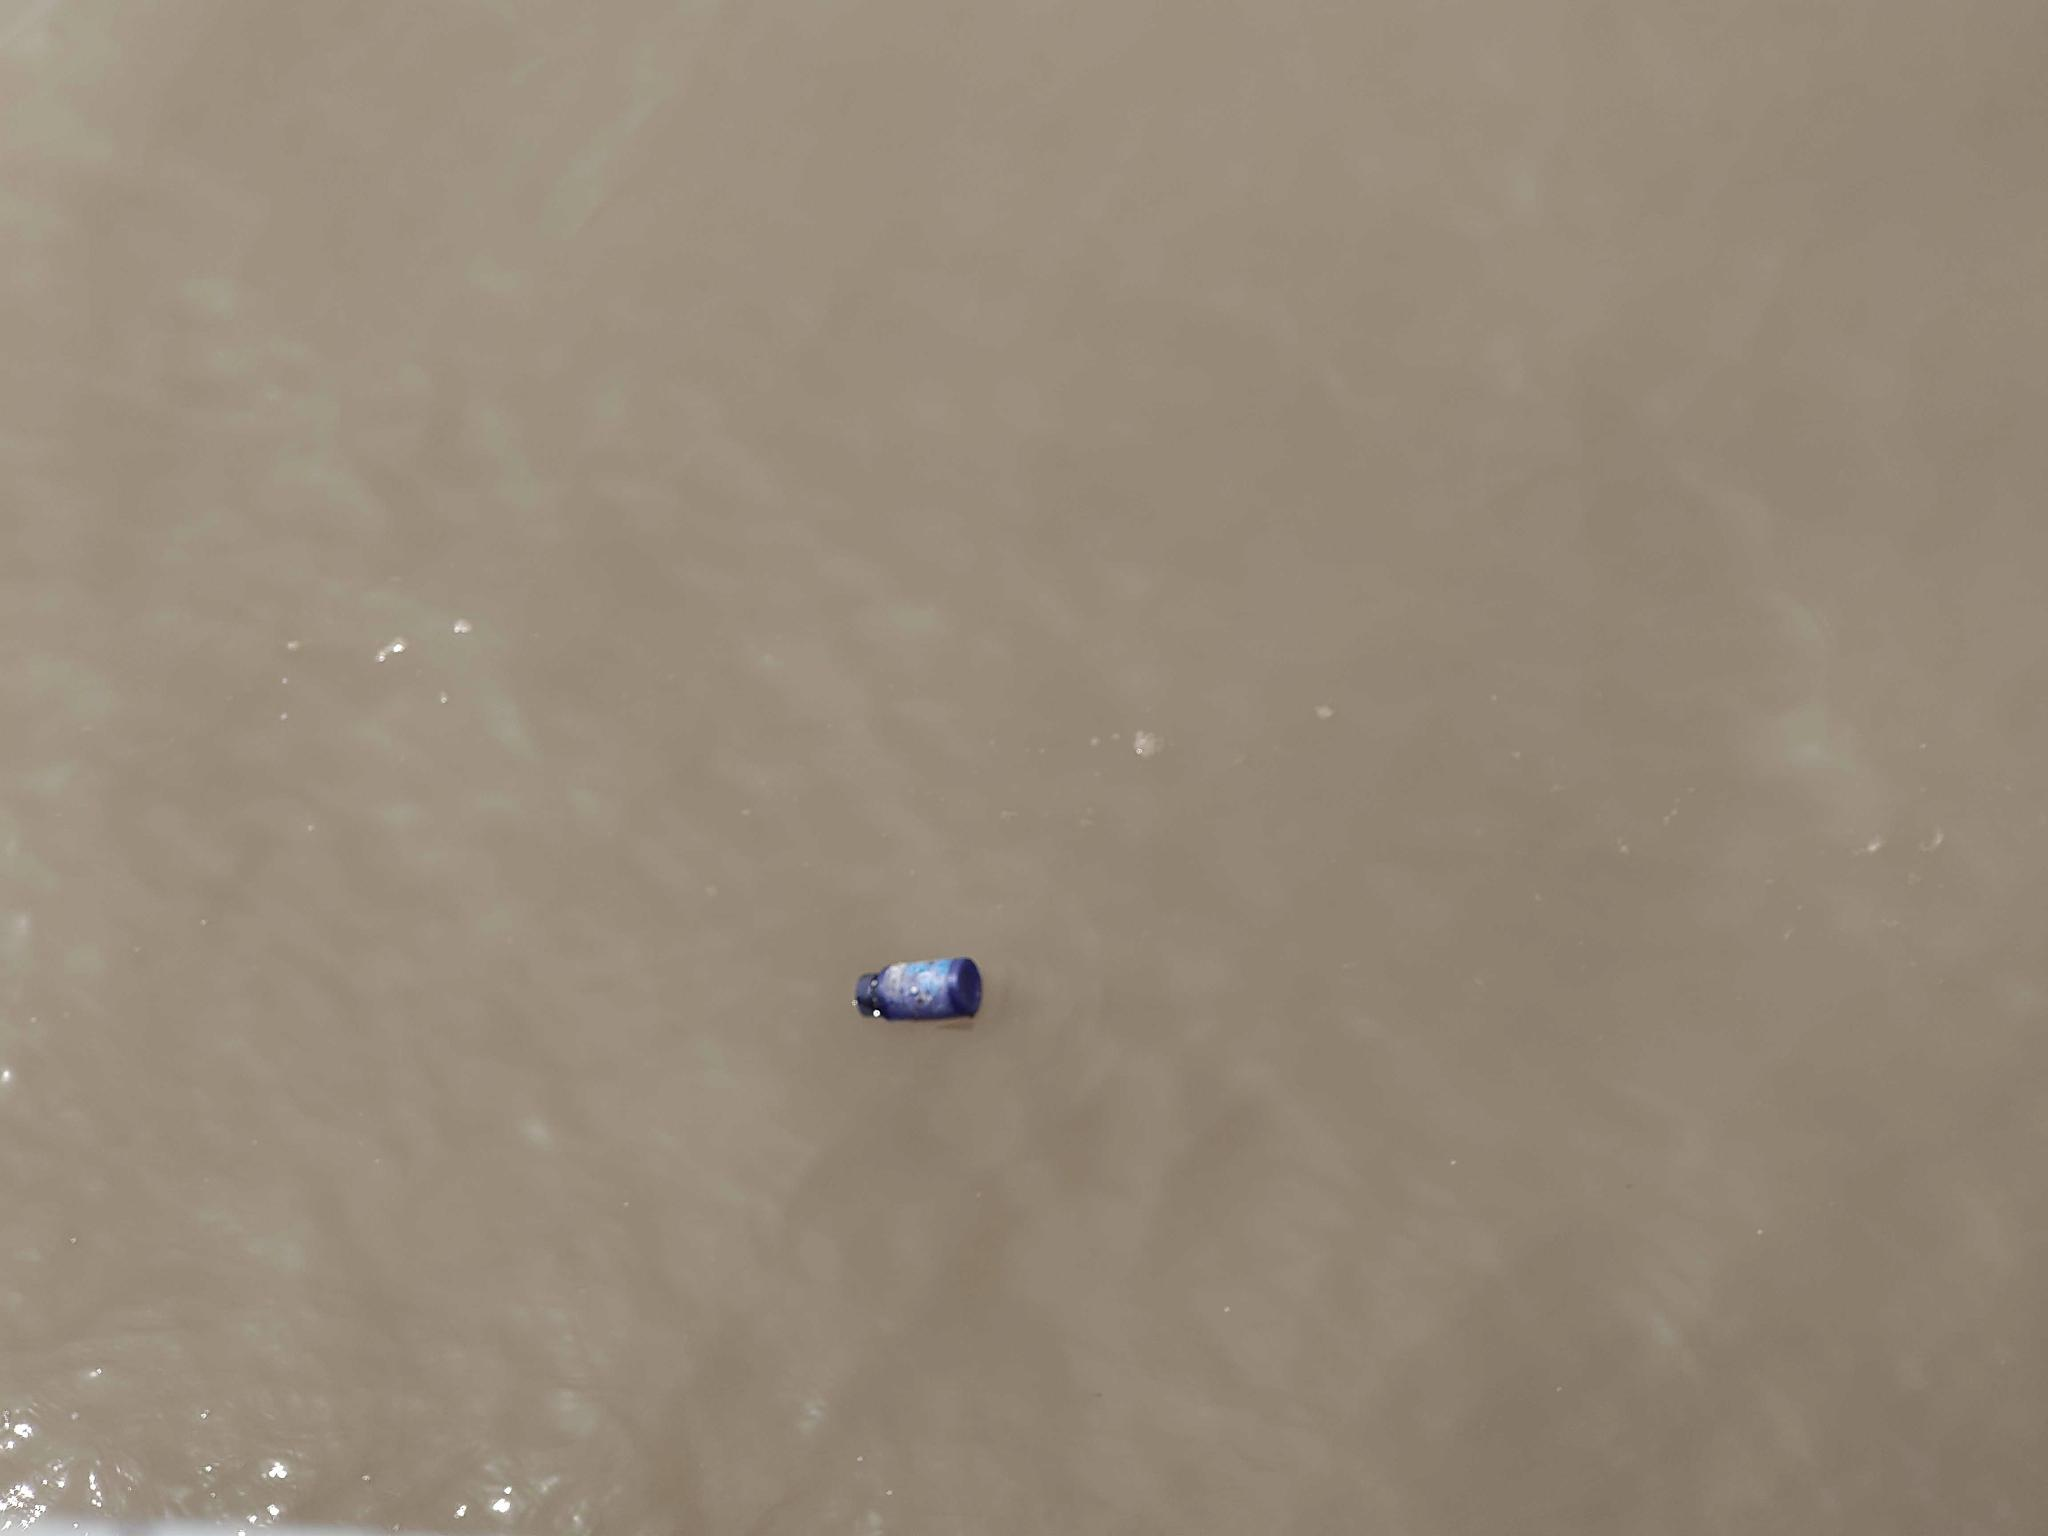Plastic: (851, 949, 984, 1028)
